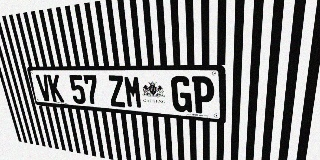5: (69, 75, 87, 104)
7: (82, 75, 101, 105)
G: (171, 76, 192, 113)
K: (47, 75, 64, 103)
M: (123, 75, 143, 109)
P: (192, 76, 214, 114)
V: (35, 74, 53, 102)
Z: (107, 75, 126, 107)
